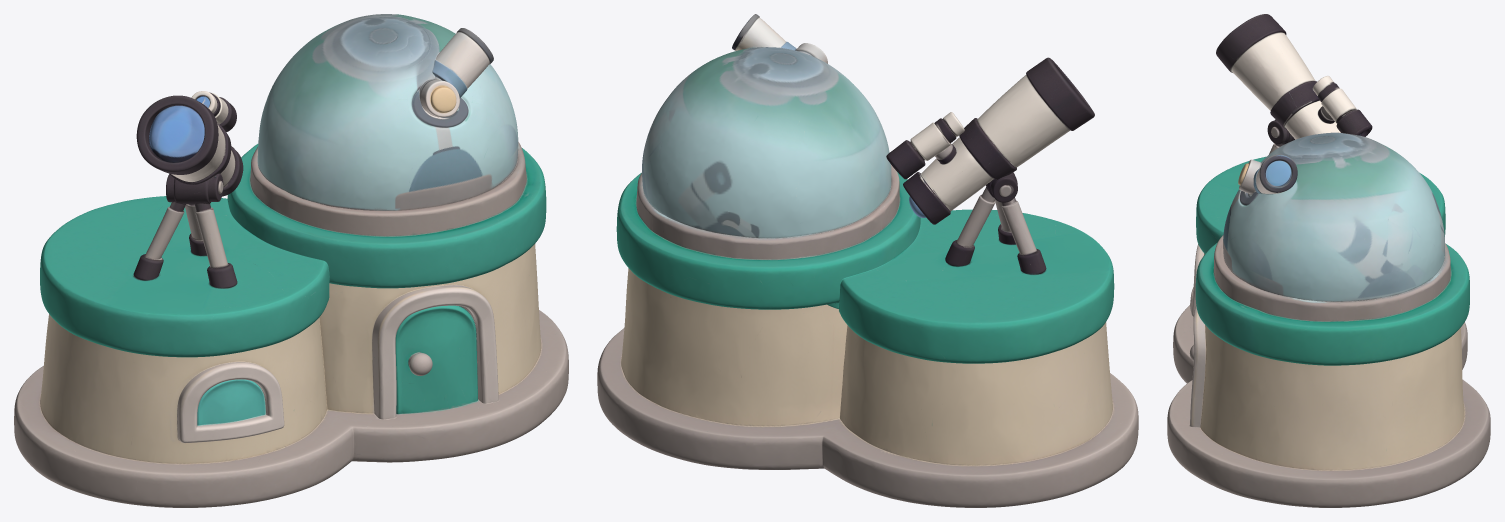
The model's file is lab.glb.
The picture shows the model from 3 angles, left to right: view 1: azimuth 30°, elevation 25°; view 2: azimuth 150°, elevation 25°; view 3: azimuth 270°, elevation 25°; orthographic projection. The views are drawn at different scales.
Size of the model in its own units: 1.9 by 1.35 by 1.22.
1 material, 1 textured.
